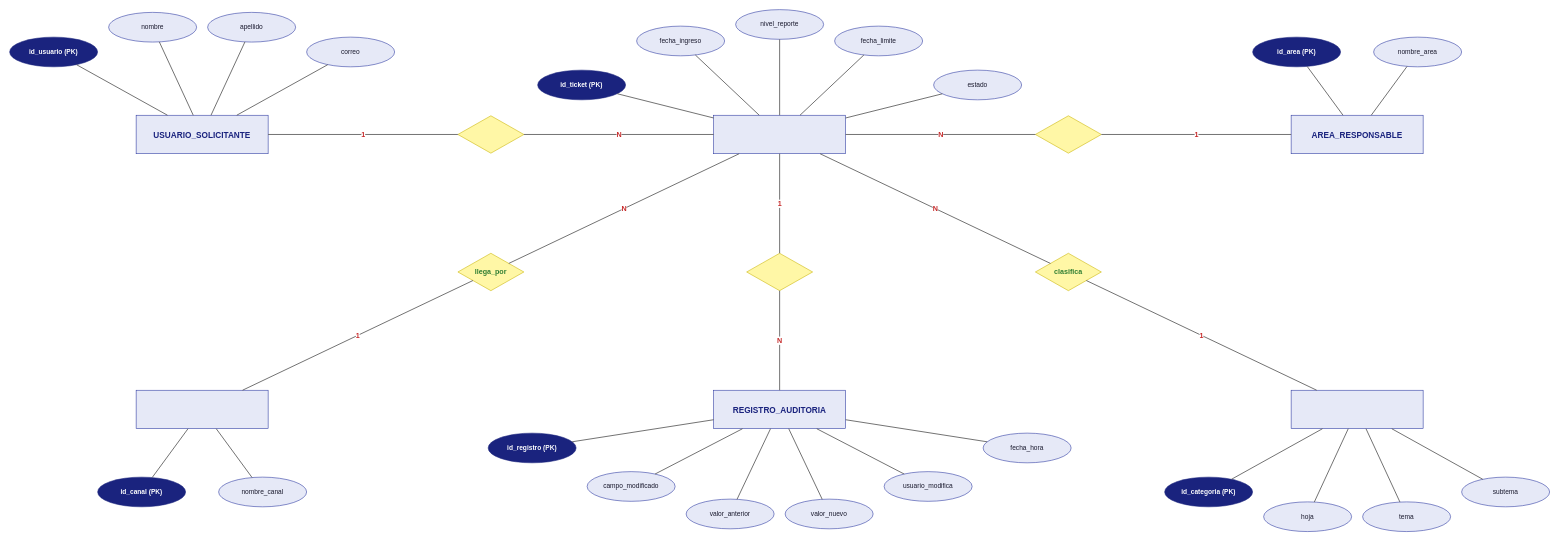
The diagram is 1559 pixels wide and 541 high, and some of its shapes have lost their labels. The box of each missing label's shape, as (x1, y1, x2, y2) in pixels:
atiende: (1035, 115, 1101, 153)
CANAL: (136, 390, 268, 429)
CATEGORIA: (1291, 390, 1423, 429)
genera: (457, 115, 524, 153)
registra: (746, 253, 813, 291)
TICKET: (713, 115, 846, 154)
